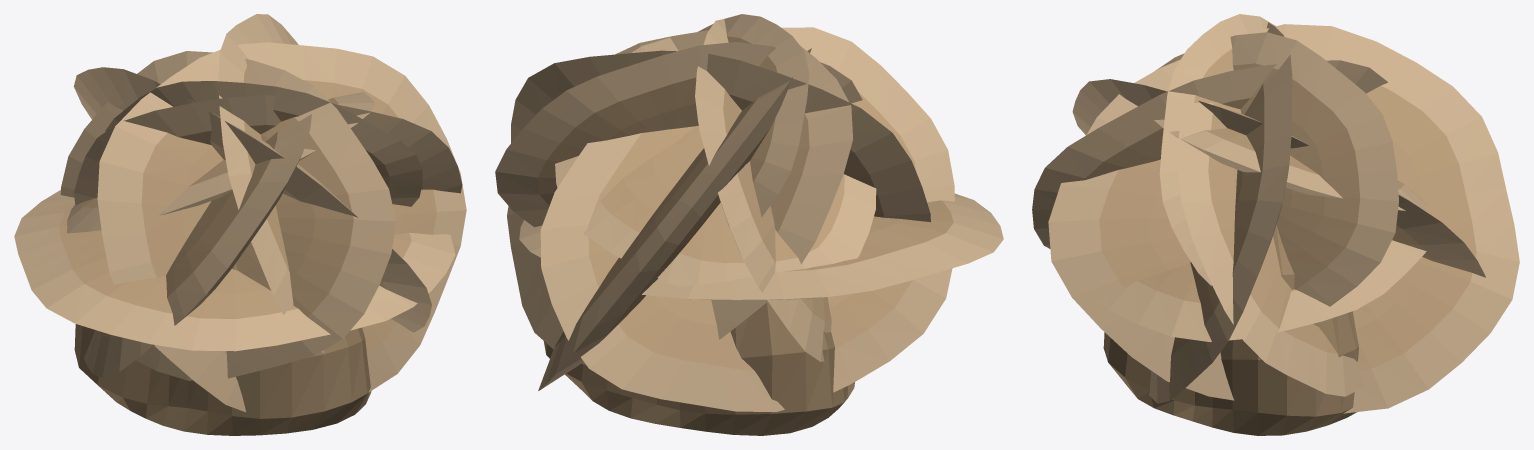
The picture shows the model from 3 angles, left to right: view 1: azimuth 30°, elevation 25°; view 2: azimuth 150°, elevation 25°; view 3: azimuth 270°, elevation 25°; orthographic projection. The views are drawn at different scales.
Visible parts, largest first — view 1: WholeIntergrownLenticularGypsumPlate_04, WholeIntergrownLenticularGypsumPlate_06, WholeIntergrownLenticularGypsumPlate_01, WholeSandyIntergrowthMatrix, WholeIntergrownLenticularGypsumPlate_03, WholeIntergrownLenticularGypsumPlate_05, WholeIntergrownLenticularGypsumPlate_02, WholeIntergrownLenticularGypsumPlate_07, WholeIntergrownLenticularGypsumPlate_09, WholeIntergrownLenticularGypsumPlate_08; view 2: WholeIntergrownLenticularGypsumPlate_03, WholeIntergrownLenticularGypsumPlate_07, WholeIntergrownLenticularGypsumPlate_08, WholeIntergrownLenticularGypsumPlate_01, WholeIntergrownLenticularGypsumPlate_02, WholeSandyIntergrowthMatrix, WholeIntergrownLenticularGypsumPlate_05, WholeIntergrownLenticularGypsumPlate_04, WholeIntergrownLenticularGypsumPlate_06, WholeIntergrownLenticularGypsumPlate_09; view 3: WholeIntergrownLenticularGypsumPlate_02, WholeIntergrownLenticularGypsumPlate_07, WholeIntergrownLenticularGypsumPlate_05, WholeIntergrownLenticularGypsumPlate_04, WholeSandyIntergrowthMatrix, WholeIntergrownLenticularGypsumPlate_06, WholeIntergrownLenticularGypsumPlate_01, WholeIntergrownLenticularGypsumPlate_09, WholeIntergrownLenticularGypsumPlate_03, WholeIntergrownLenticularGypsumPlate_08.
Part boxes in pixels (x1=…): WholeIntergrownLenticularGypsumPlate_04: x1=97, y1=42, x2=466, y2=412; WholeIntergrownLenticularGypsumPlate_06: x1=60, y1=51, x2=396, y2=380; WholeIntergrownLenticularGypsumPlate_01: x1=14, y1=190, x2=455, y2=351; WholeSandyIntergrowthMatrix: x1=74, y1=264, x2=371, y2=435; WholeIntergrownLenticularGypsumPlate_03: x1=84, y1=114, x2=311, y2=378; WholeIntergrownLenticularGypsumPlate_05: x1=74, y1=95, x2=462, y2=205; WholeIntergrownLenticularGypsumPlate_02: x1=73, y1=67, x2=431, y2=332; WholeIntergrownLenticularGypsumPlate_07: x1=218, y1=14, x2=324, y2=353; WholeIntergrownLenticularGypsumPlate_09: x1=105, y1=81, x2=422, y2=206; WholeIntergrownLenticularGypsumPlate_08: x1=67, y1=92, x2=374, y2=233; WholeIntergrownLenticularGypsumPlate_03: x1=540, y1=27, x2=954, y2=411; WholeIntergrownLenticularGypsumPlate_07: x1=495, y1=42, x2=862, y2=227; WholeIntergrownLenticularGypsumPlate_08: x1=555, y1=37, x2=876, y2=287; WholeIntergrownLenticularGypsumPlate_01: x1=519, y1=193, x2=1003, y2=300; WholeIntergrownLenticularGypsumPlate_02: x1=538, y1=48, x2=811, y2=390; WholeSandyIntergrowthMatrix: x1=543, y1=302, x2=854, y2=435; WholeIntergrownLenticularGypsumPlate_05: x1=507, y1=30, x2=853, y2=364; WholeIntergrownLenticularGypsumPlate_04: x1=511, y1=50, x2=930, y2=222; WholeIntergrownLenticularGypsumPlate_06: x1=695, y1=19, x2=831, y2=361; WholeIntergrownLenticularGypsumPlate_09: x1=698, y1=14, x2=809, y2=216; WholeIntergrownLenticularGypsumPlate_02: x1=1048, y1=24, x2=1519, y2=413; WholeIntergrownLenticularGypsumPlate_07: x1=1155, y1=32, x2=1398, y2=306; WholeIntergrownLenticularGypsumPlate_05: x1=1177, y1=93, x2=1361, y2=396; WholeIntergrownLenticularGypsumPlate_04: x1=1148, y1=22, x2=1292, y2=403; WholeSandyIntergrowthMatrix: x1=1103, y1=225, x2=1358, y2=435; WholeIntergrownLenticularGypsumPlate_06: x1=1032, y1=60, x2=1387, y2=248; WholeIntergrownLenticularGypsumPlate_01: x1=1096, y1=240, x2=1426, y2=341; WholeIntergrownLenticularGypsumPlate_09: x1=1159, y1=14, x2=1275, y2=285; WholeIntergrownLenticularGypsumPlate_03: x1=1072, y1=79, x2=1485, y2=277; WholeIntergrownLenticularGypsumPlate_08: x1=1154, y1=119, x2=1428, y2=210.
Size of the model in its own units: 0.0621 by 0.0452 by 0.0597.
